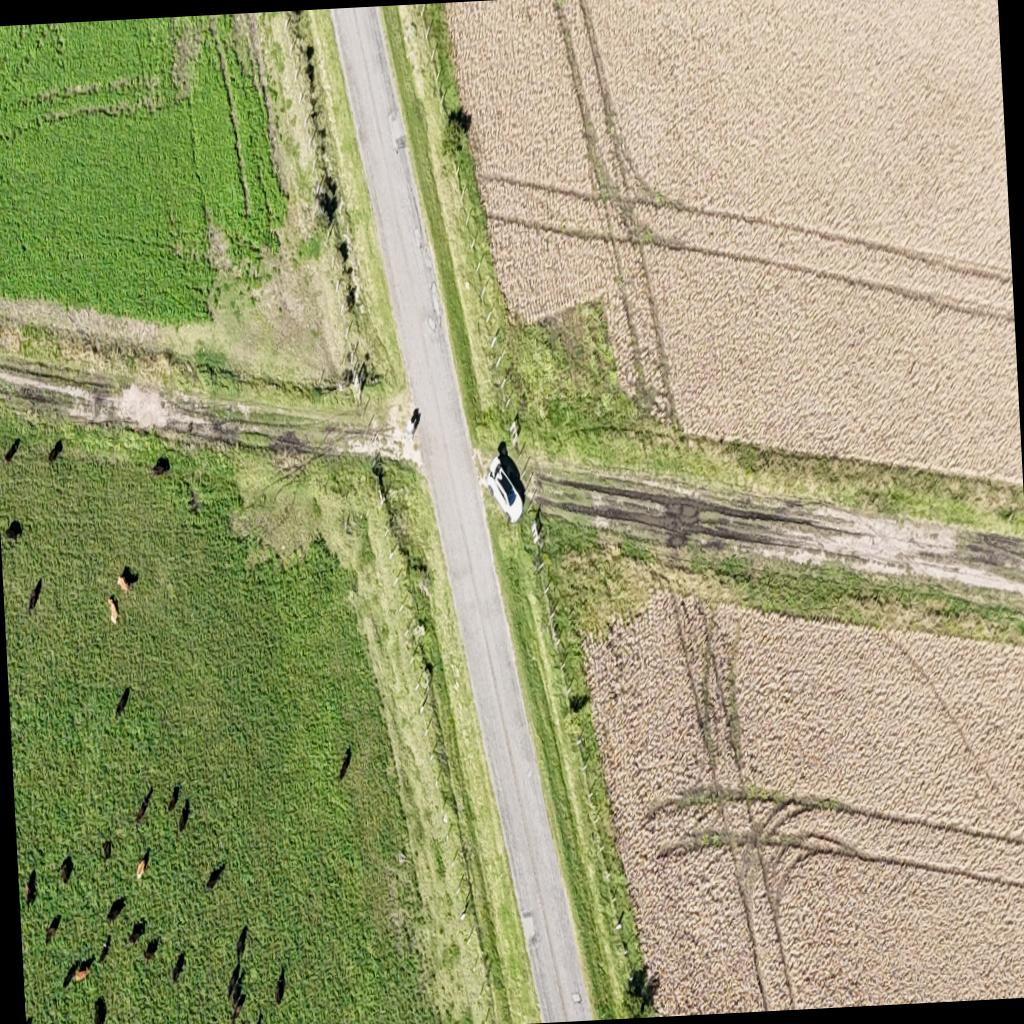cow: (133, 788, 153, 824), (229, 980, 246, 1022), (26, 579, 44, 617), (204, 862, 226, 892), (23, 867, 39, 908), (233, 924, 249, 964), (105, 896, 127, 924), (117, 564, 139, 592), (227, 960, 243, 998), (176, 797, 191, 836), (337, 747, 353, 783), (114, 685, 132, 717), (58, 856, 76, 888), (4, 518, 25, 544), (134, 848, 151, 880), (46, 438, 64, 468), (44, 914, 62, 944), (59, 960, 78, 988), (2, 438, 22, 464), (126, 918, 146, 944), (272, 968, 286, 1005), (166, 783, 182, 814), (171, 951, 187, 982), (142, 936, 160, 962), (97, 934, 112, 964), (150, 456, 170, 478), (92, 997, 108, 1024), (108, 595, 120, 626), (73, 966, 89, 984), (102, 840, 112, 860), (247, 1013, 262, 1024)
